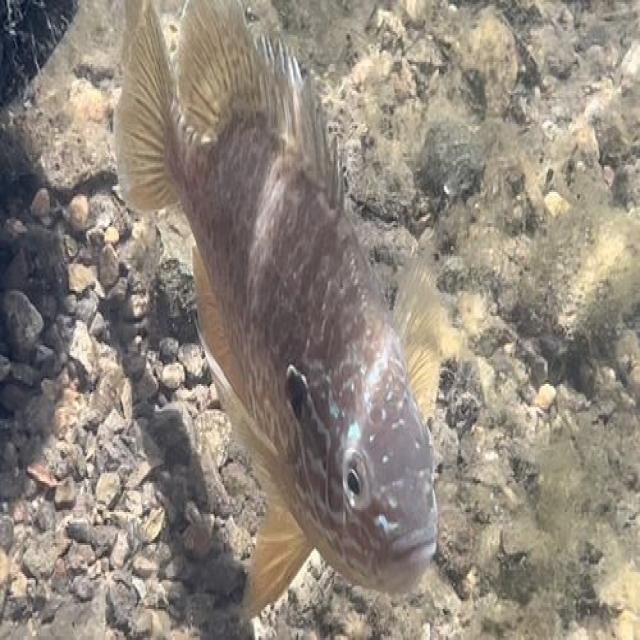Gunes Levregi: (107, 1, 447, 628)
